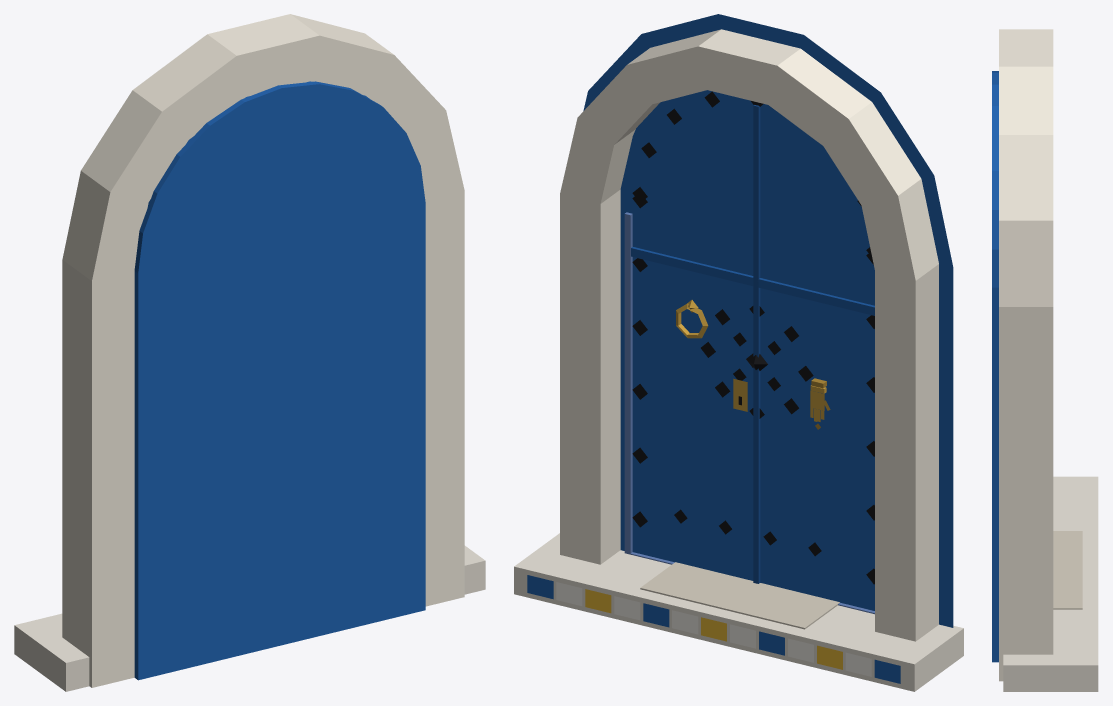
File: door_sbs_blue.glb
3 renders of one model, left to right at view 1: azimuth 30°, elevation 25°; view 2: azimuth 150°, elevation 25°; view 3: azimuth 270°, elevation 25°, orthographic. The views are drawn at different scales.
Visible parts, largest first — view 1: door_sbs_blue; view 2: door_sbs_blue; view 3: door_sbs_blue.
Part boxes in pixels (x1,y1,x2,y2): door_sbs_blue: (14,14,485,691); door_sbs_blue: (514,14,963,691); door_sbs_blue: (992,29,1098,691).
Size of the model in its own units: 1.97 by 2.75 by 0.472.
